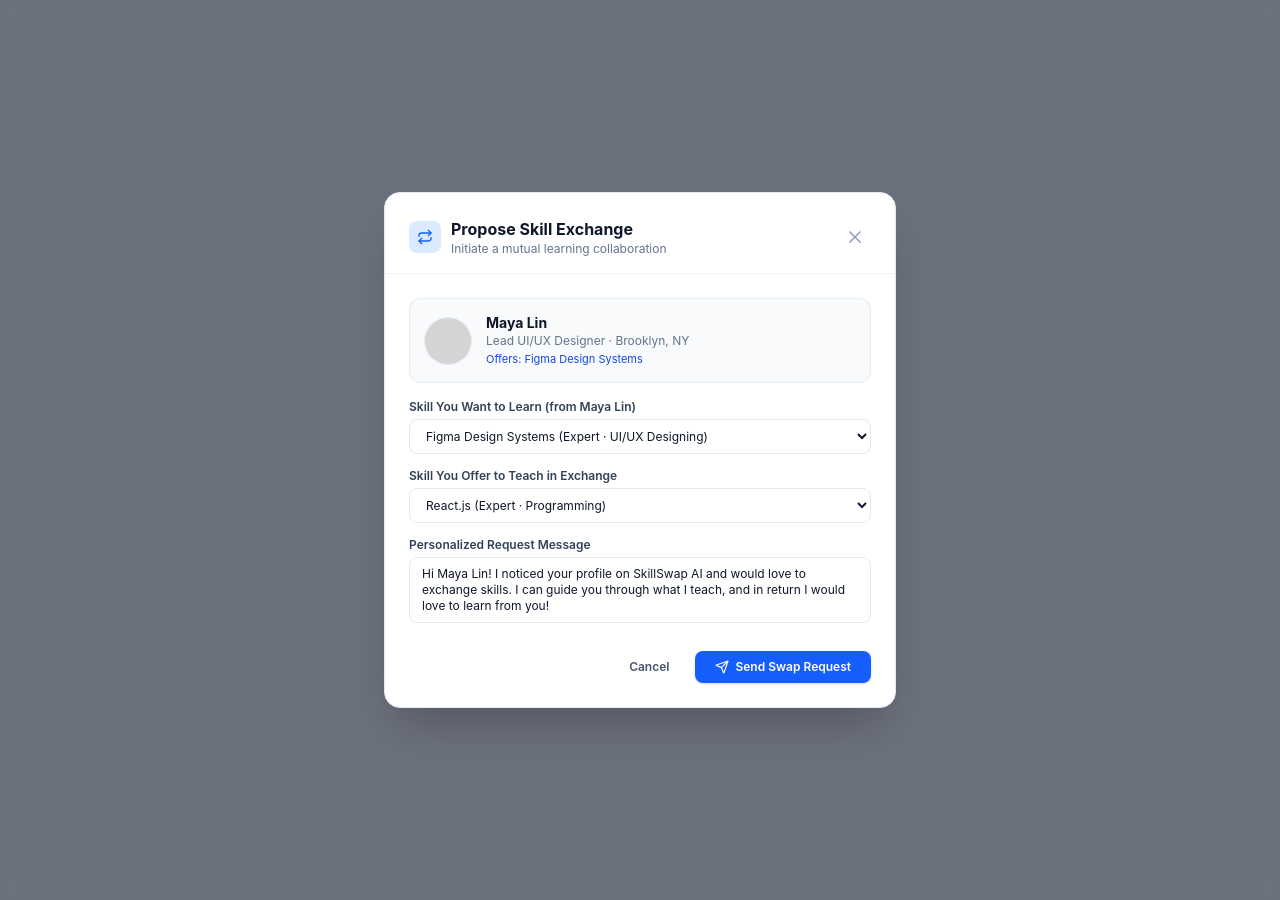
SendSwapModal › validates that personalized message cannot be empty
Clear the text box labelled "Personalized Request Message" at (640, 590), box [409, 557, 871, 623]
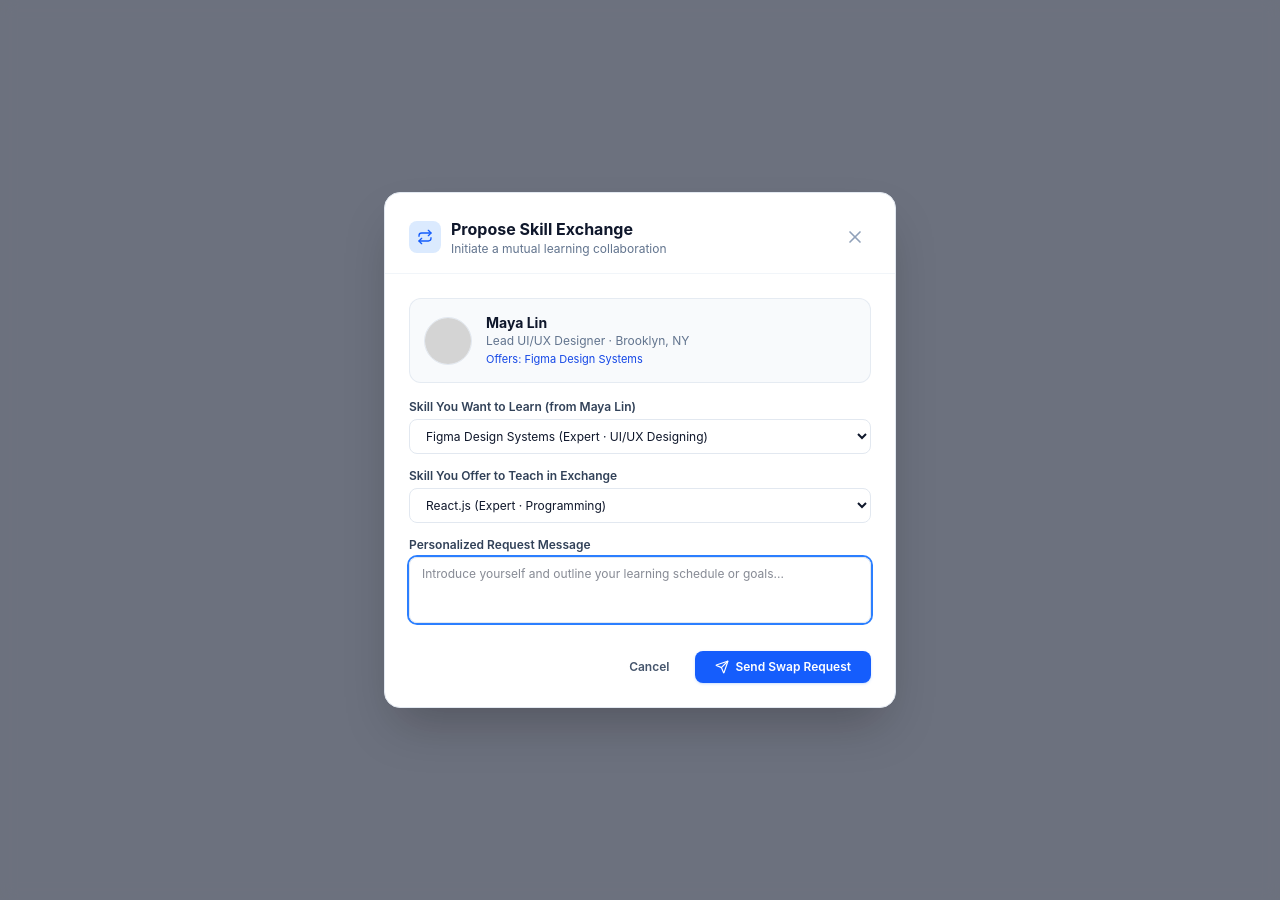
Click the button "Send Swap Request".
click(783, 667)  # box [696, 651, 871, 683]
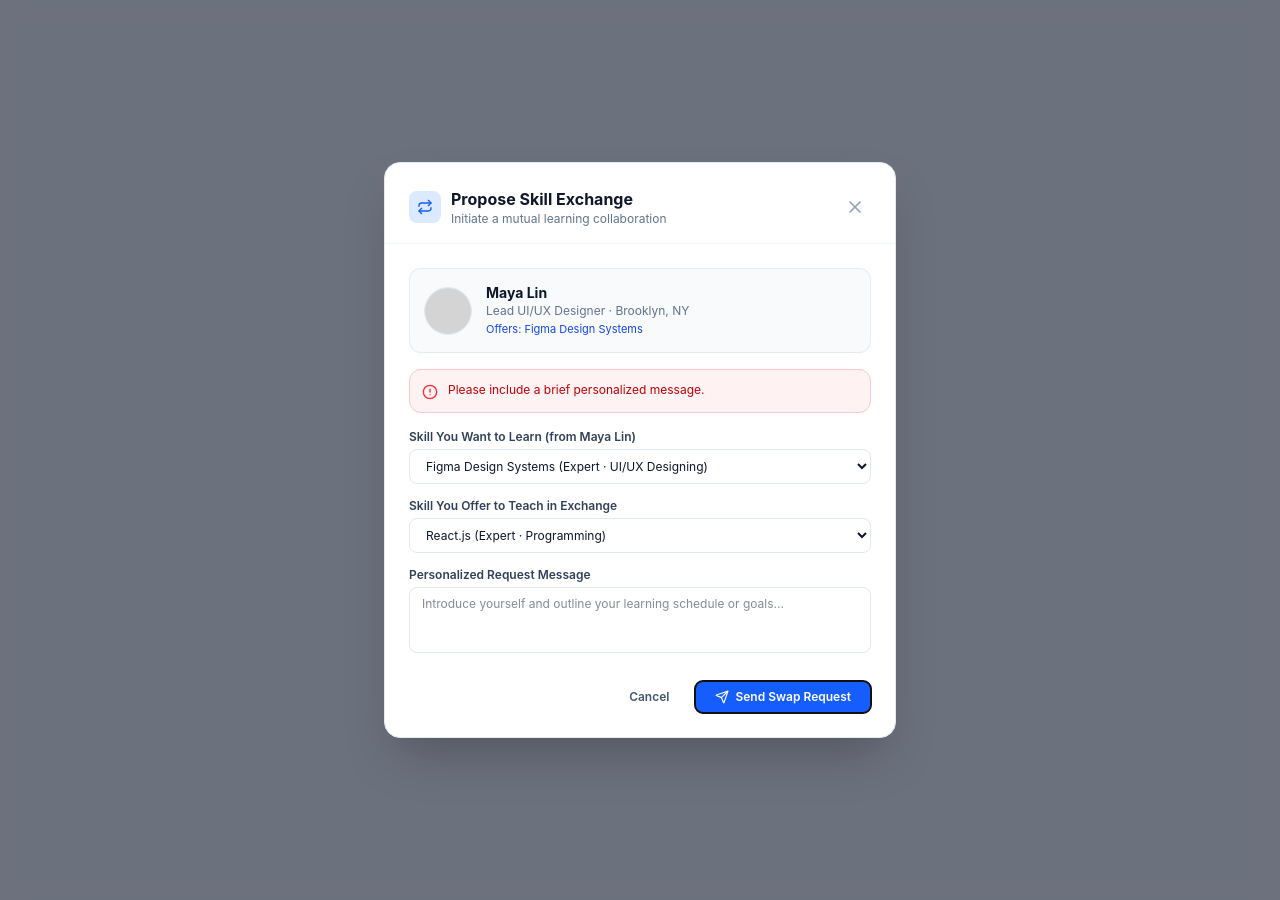
Expected: the message reads "Please include a brief personalized message.", [448, 382, 704, 397]
